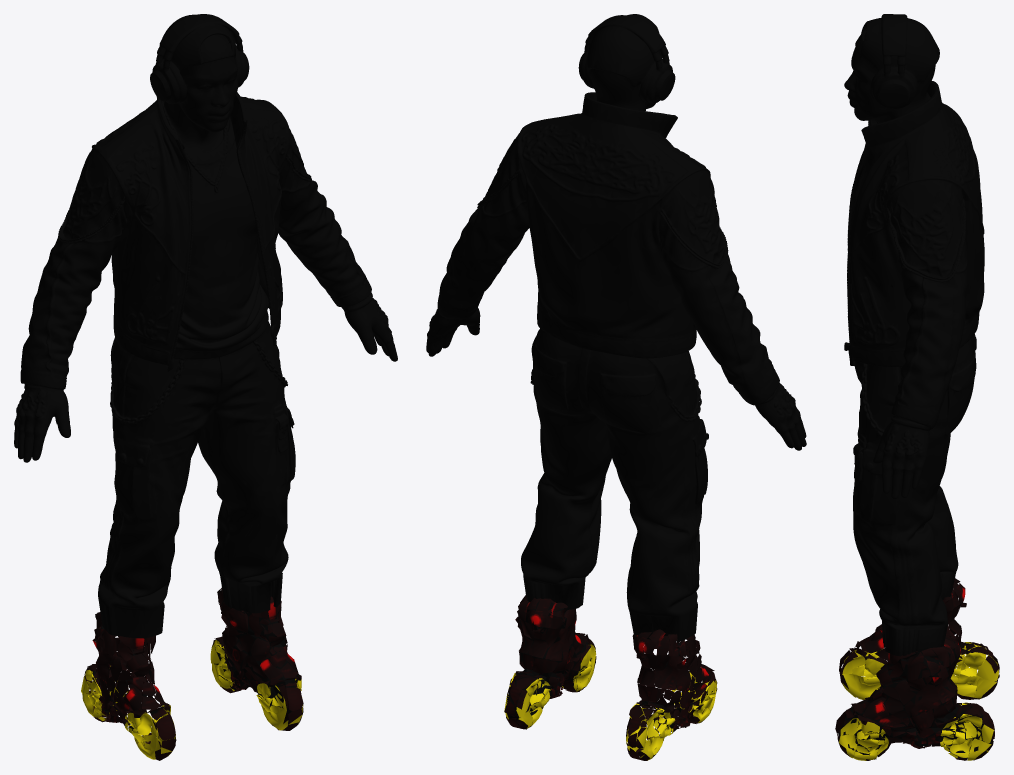
File: caali-g-v2-hd.glb
The picture shows the model from 3 angles, left to right: view 1: azimuth 30°, elevation 25°; view 2: azimuth 150°, elevation 25°; view 3: azimuth 270°, elevation 25°; orthographic projection. The views are drawn at different scales.
Parts seen in each view (by area): view 1: CaaliG_LOD0; view 2: CaaliG_LOD0; view 3: CaaliG_LOD0.
Boxes of the visible parts, x1=… form: CaaliG_LOD0: x1=14, y1=14, x2=397, y2=760; CaaliG_LOD0: x1=426, y1=14, x2=806, y2=760; CaaliG_LOD0: x1=835, y1=14, x2=999, y2=760.
Size of what is drawn, in the model's own units: 1.06 by 1.92 by 0.4033.
1 material, 1 textured.
